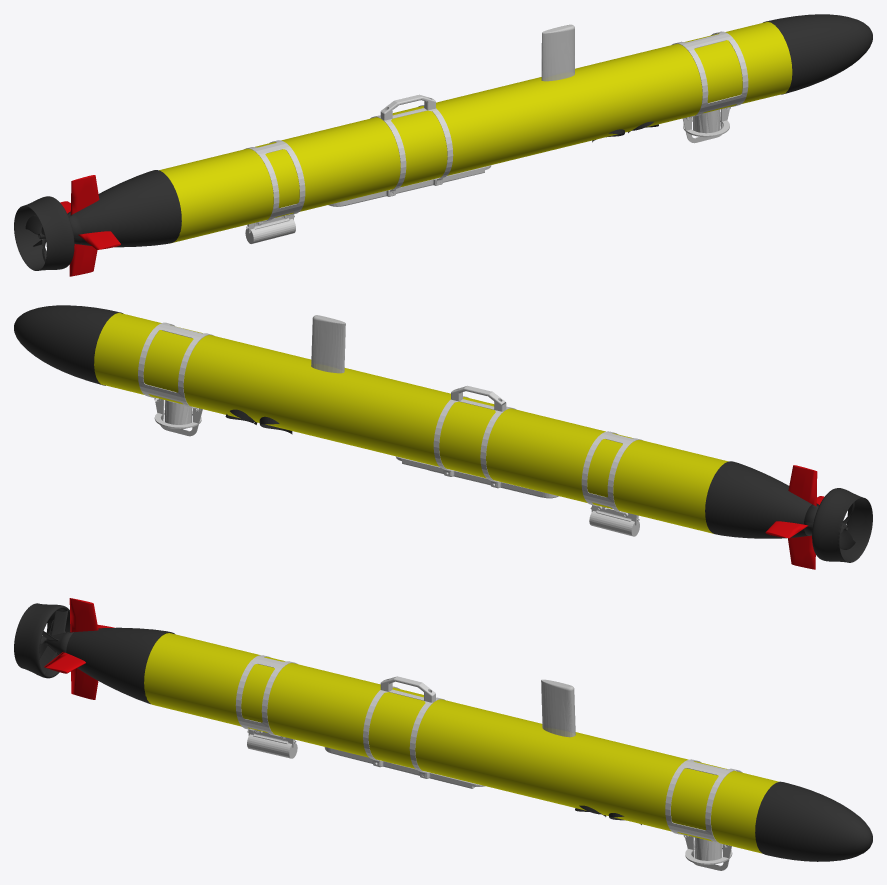
The model's file is auv.dae.
3 views of the same model, one above another, from view 1: azimuth 30°, elevation 25°; view 2: azimuth 150°, elevation 25°; view 3: azimuth 330°, elevation 25° (orthographic).
Visible parts, largest first — view 1: AUV; view 2: AUV; view 3: AUV.
Boxes of the visible parts, left/top/right/bottom form: AUV: left=14, top=14, right=872, bottom=276; AUV: left=14, top=305, right=872, bottom=569; AUV: left=14, top=598, right=872, bottom=870.
Bounding box in the file's own units: 1.8 × 0.1997 × 0.3056.
